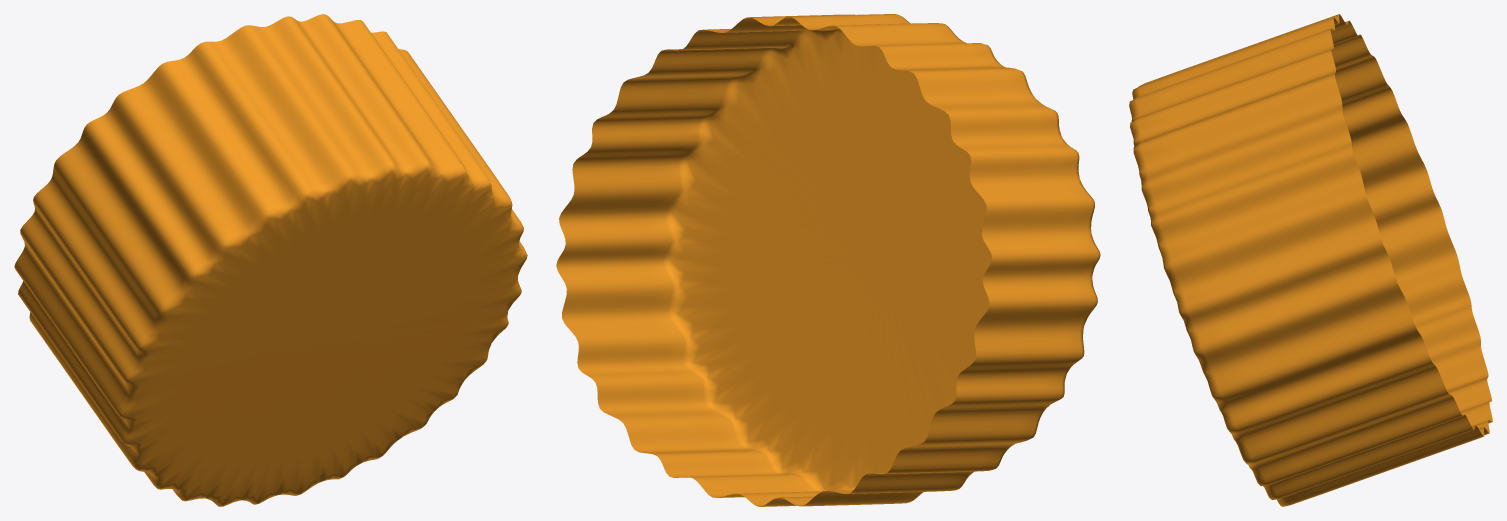
3 renders of one model, left to right at view 1: azimuth 30°, elevation 25°; view 2: azimuth 150°, elevation 25°; view 3: azimuth 270°, elevation 25°, orthographic. The views are drawn at different scales.
Size of the model in its own units: 0.077 by 0.0847 by 0.0624.
